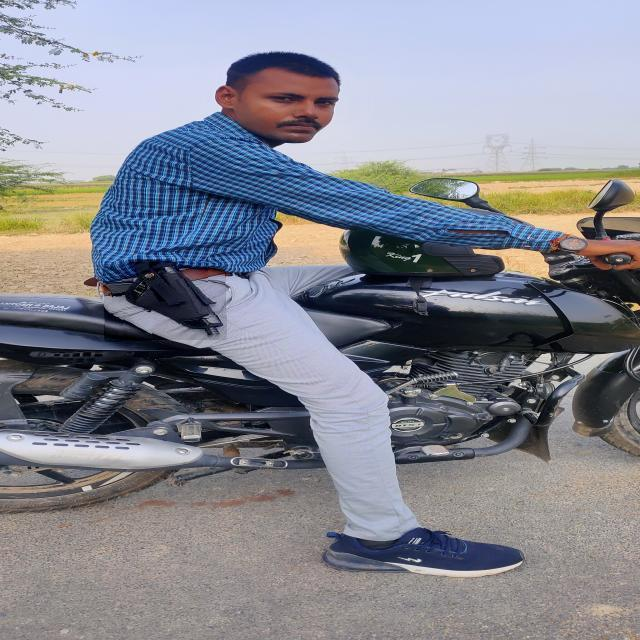handgun: (104, 261, 226, 341)
